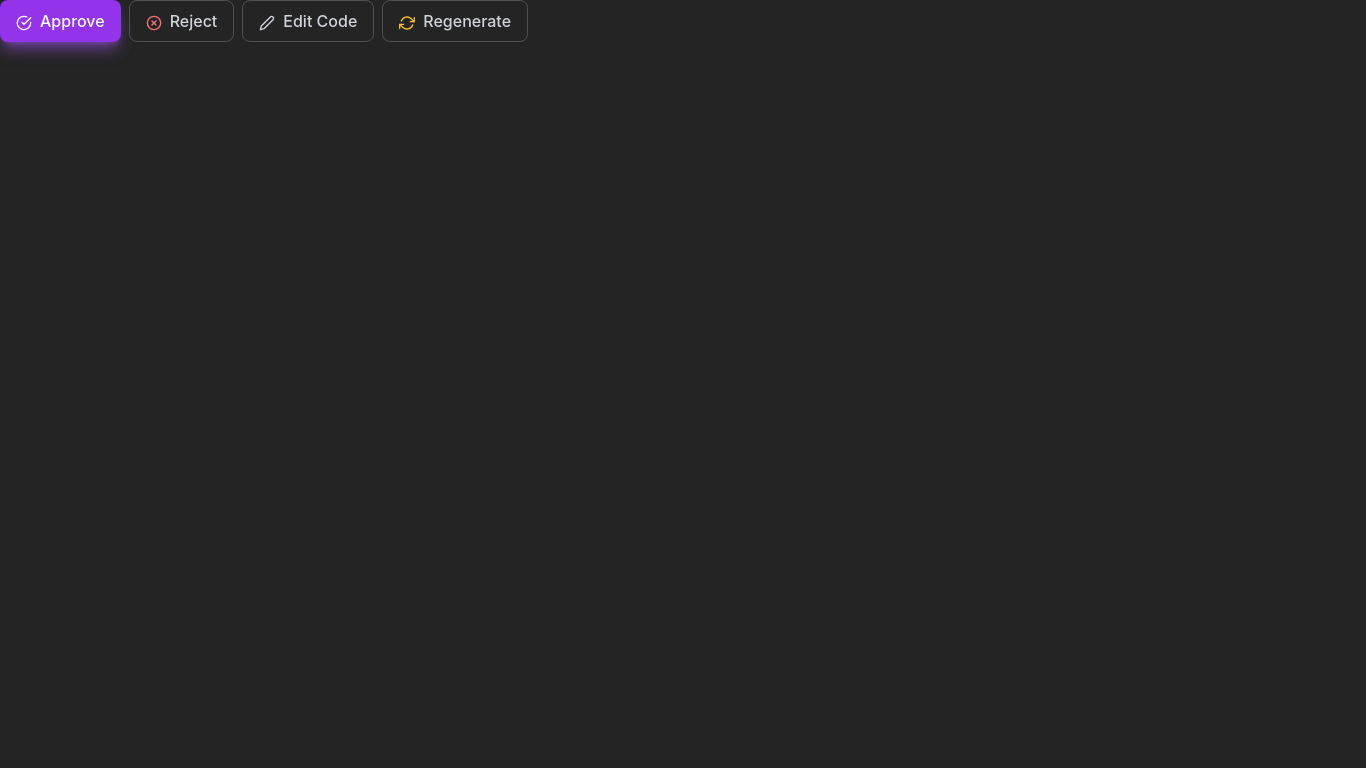
Test: ReviewActions › opens regenerate dialog when Regenerate button clicked
This screenshot has width=1366, height=768.
Click the button "Regenerate". click: (455, 21)
box: [382, 0, 528, 42]
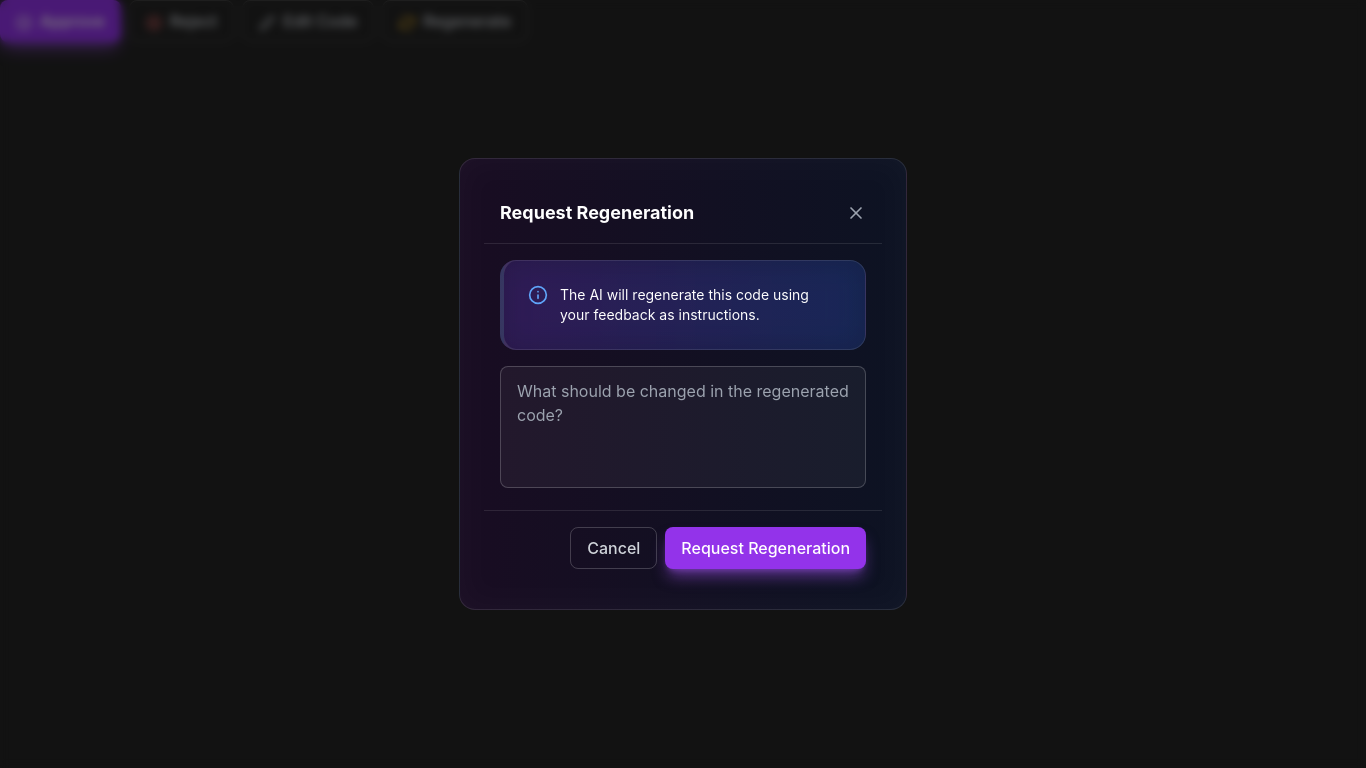
Expected: the heading "Request Regeneration" is shown, [500, 199, 694, 227]
Expected: the text box with placeholder "What should be changed in the regenerated code?" is shown, [500, 366, 866, 488]
